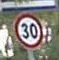limite 30: (13, 10, 44, 48)
